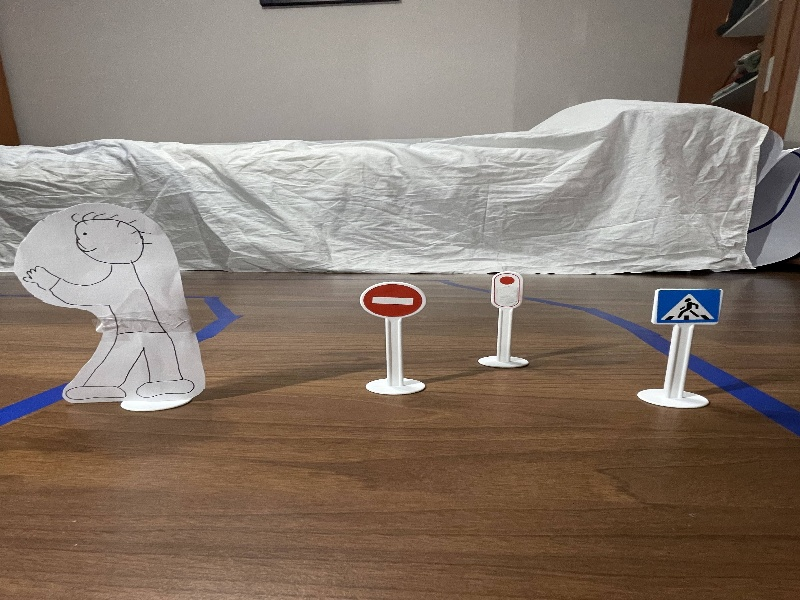interzis: (358, 274, 429, 326)
persoana: (3, 193, 232, 416)
semafor_rosu: (488, 269, 527, 314)
trecere_pietoni: (651, 279, 735, 335)
